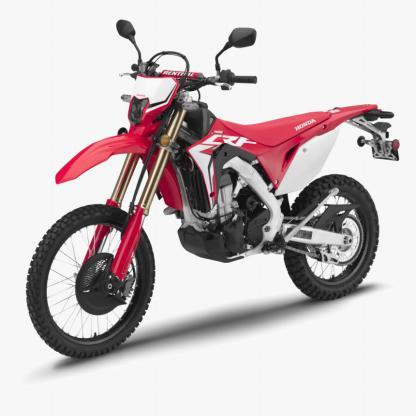Motorcycle: (18, 16, 405, 360)
